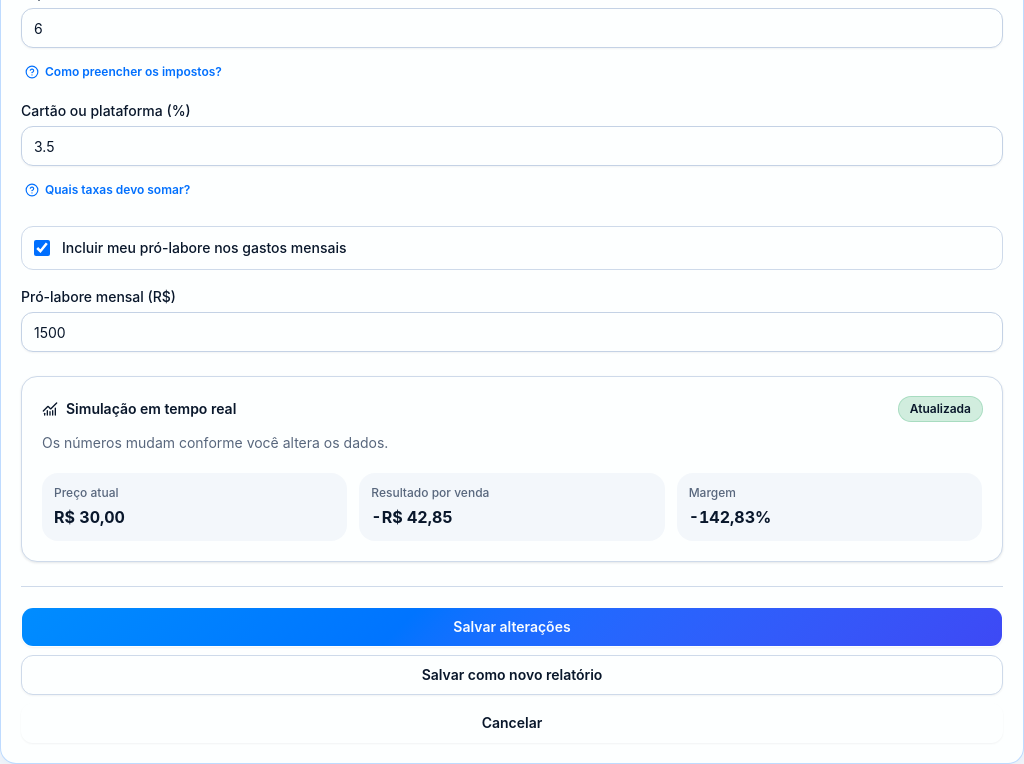
ReportEditor › keeps the draft and explains an optimistic concurrency conflict
(page scrolled)
Click the button "Salvar alterações". click: (512, 627)
box: [21,607,1003,647]
(page scrolled)
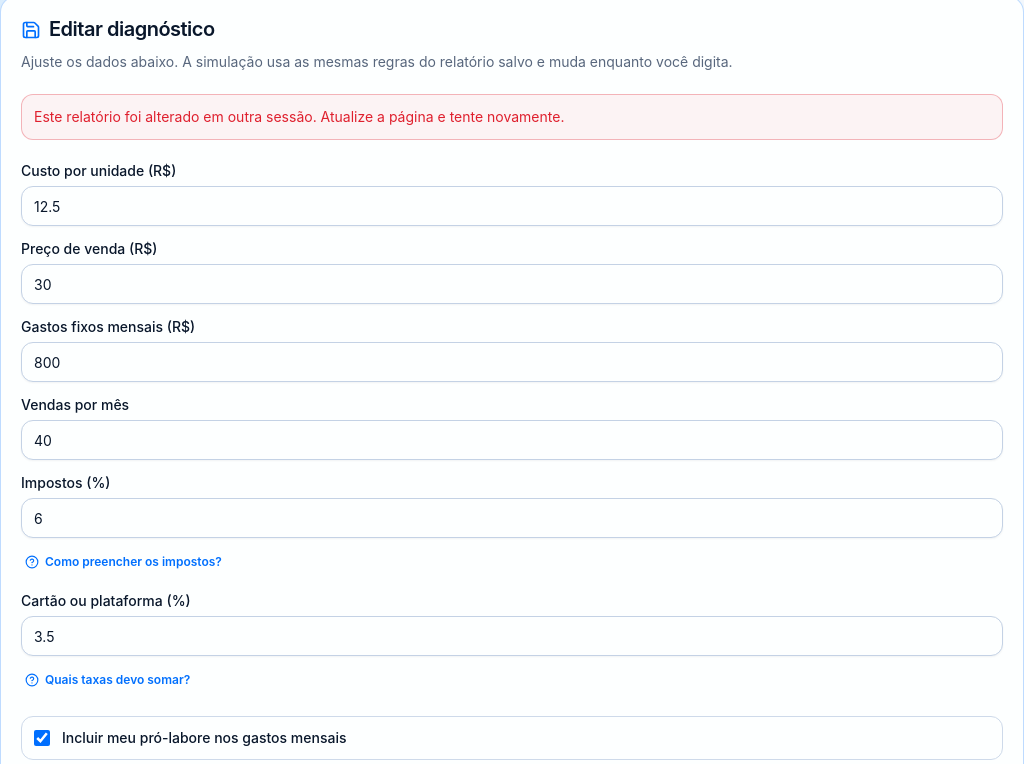
Expected: the field labelled "Preço de venda (R$)" holds "30", [21,264,1003,304]
Expected: the text "Este relatório foi alterado em outra sessão. Atualize a página e tente novamente." is shown, [34,108,564,125]
